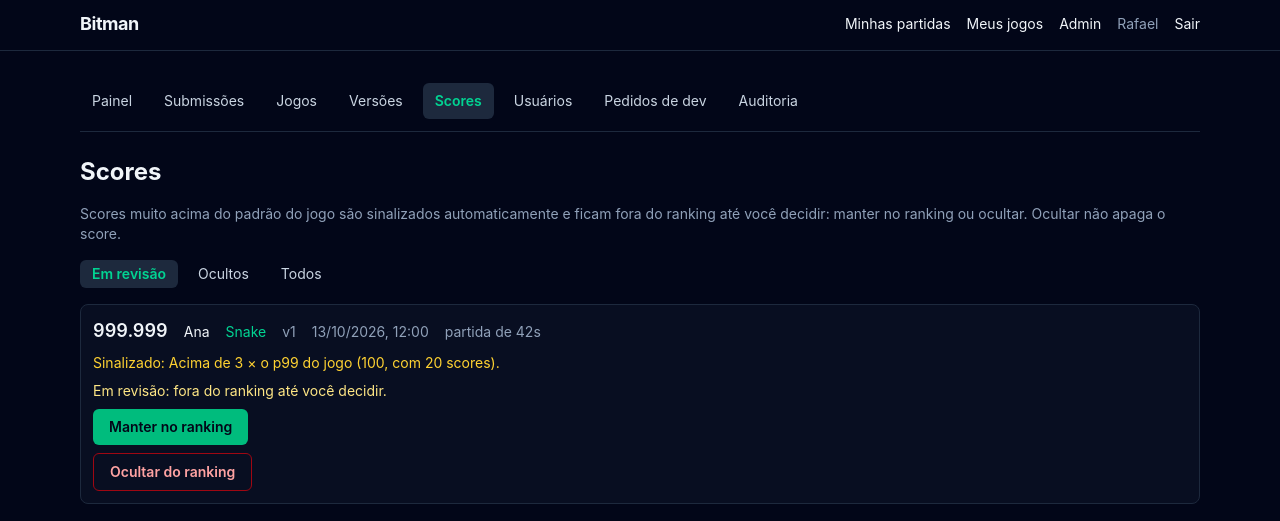
Test case: moderação de scores (S2) › M20: sinalizado em revisão fica fora do ranking; "Manter no ranking" decide
The width and height of the screenshot is (1280, 521).
Expected: the list item with aria-label "Score de Ana em Snake" shows "Em revisão: fora do ranking até você decidir.", [93,382,387,399]
Click the button "Manter no ranking": (171,427) [93,409,248,445]
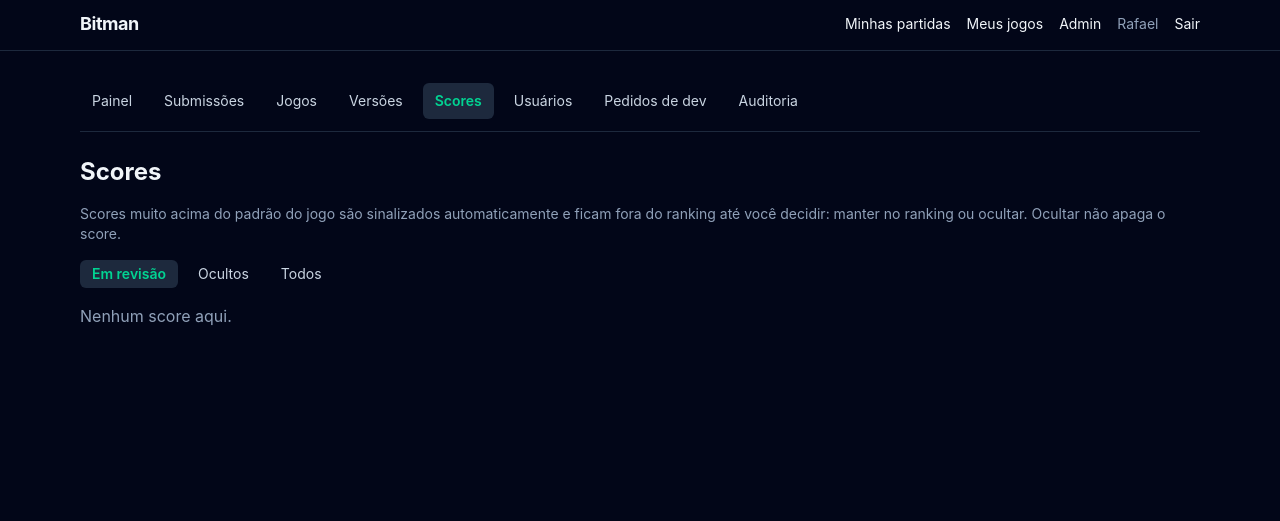
Result: the text "Nenhum score aqui." is shown at [80,306,232,326]
